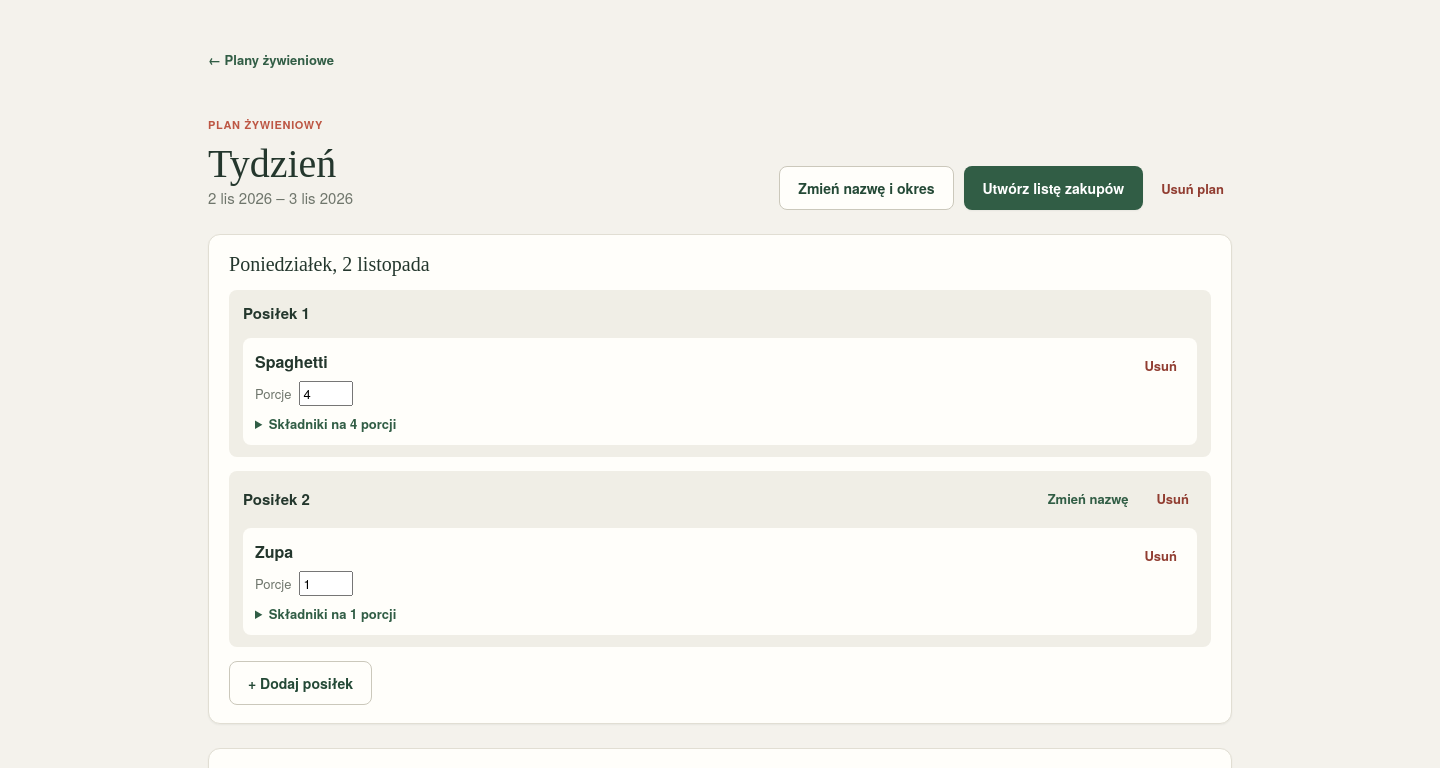
Test: meal plan view › cancelling the confirmation changes nothing
Click the button "Zmień nazwę i okres".
click(866, 188)  # box [779, 166, 954, 210]
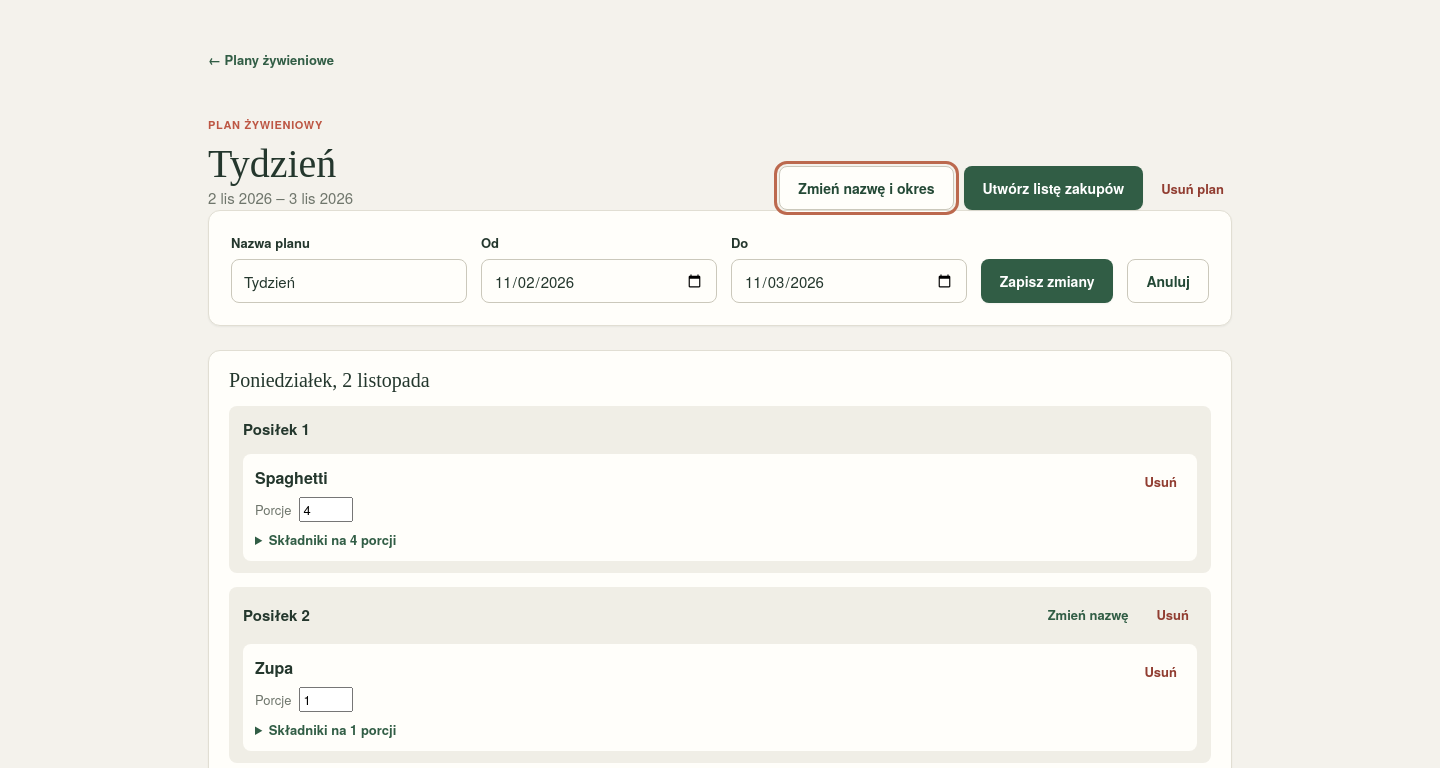
Click the button "Zapisz zmiany".
click(1047, 281)  # box [981, 259, 1113, 303]
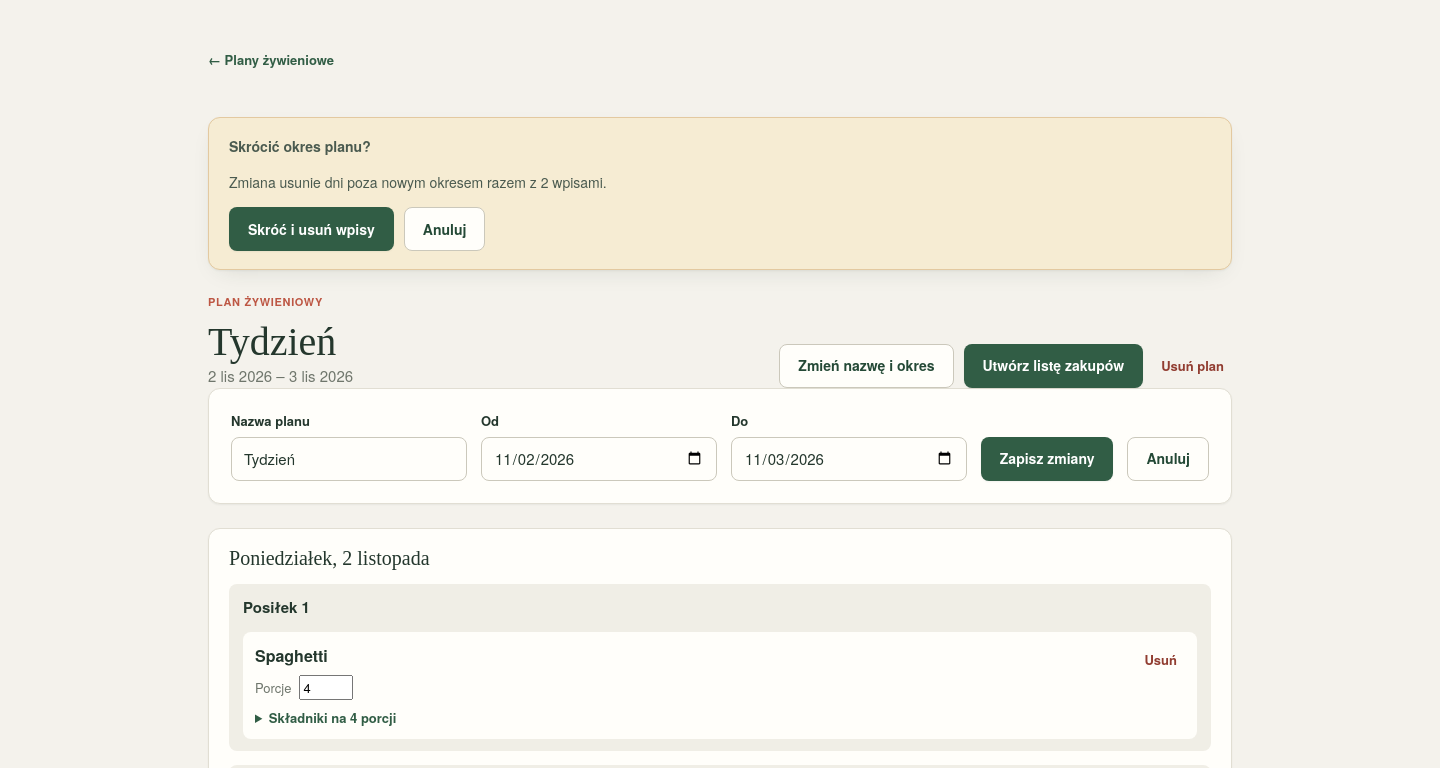
Click the button "Anuluj" below "Skrócić okres planu?".
click(445, 229)  # box [404, 207, 485, 251]
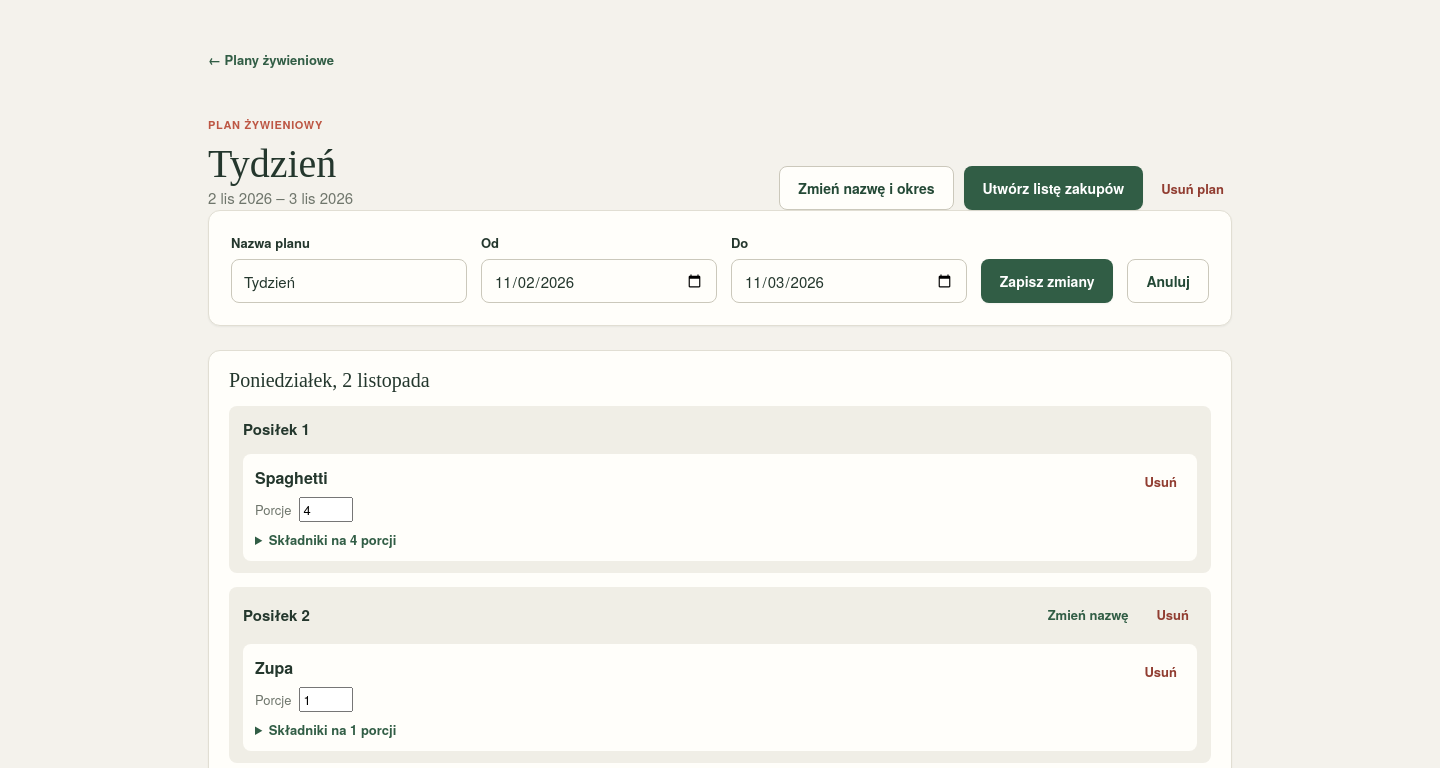
Expected: the dialog is gone
